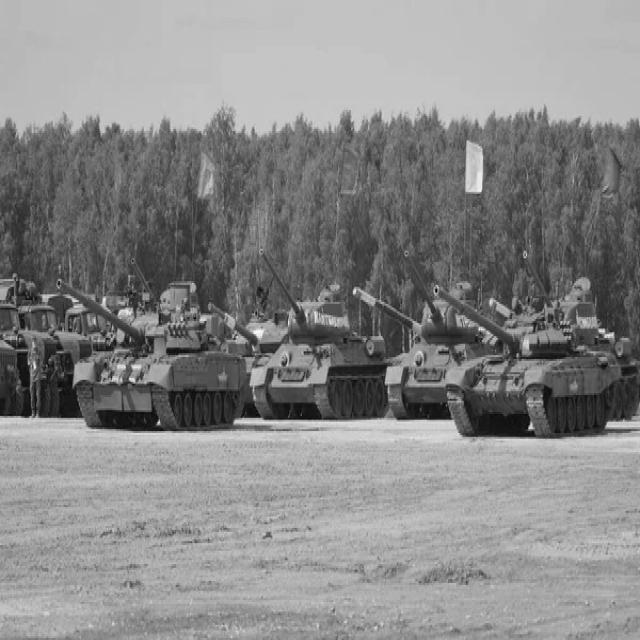Tank: (435, 265, 626, 445), (56, 263, 251, 435), (258, 247, 390, 434), (398, 239, 483, 436)
